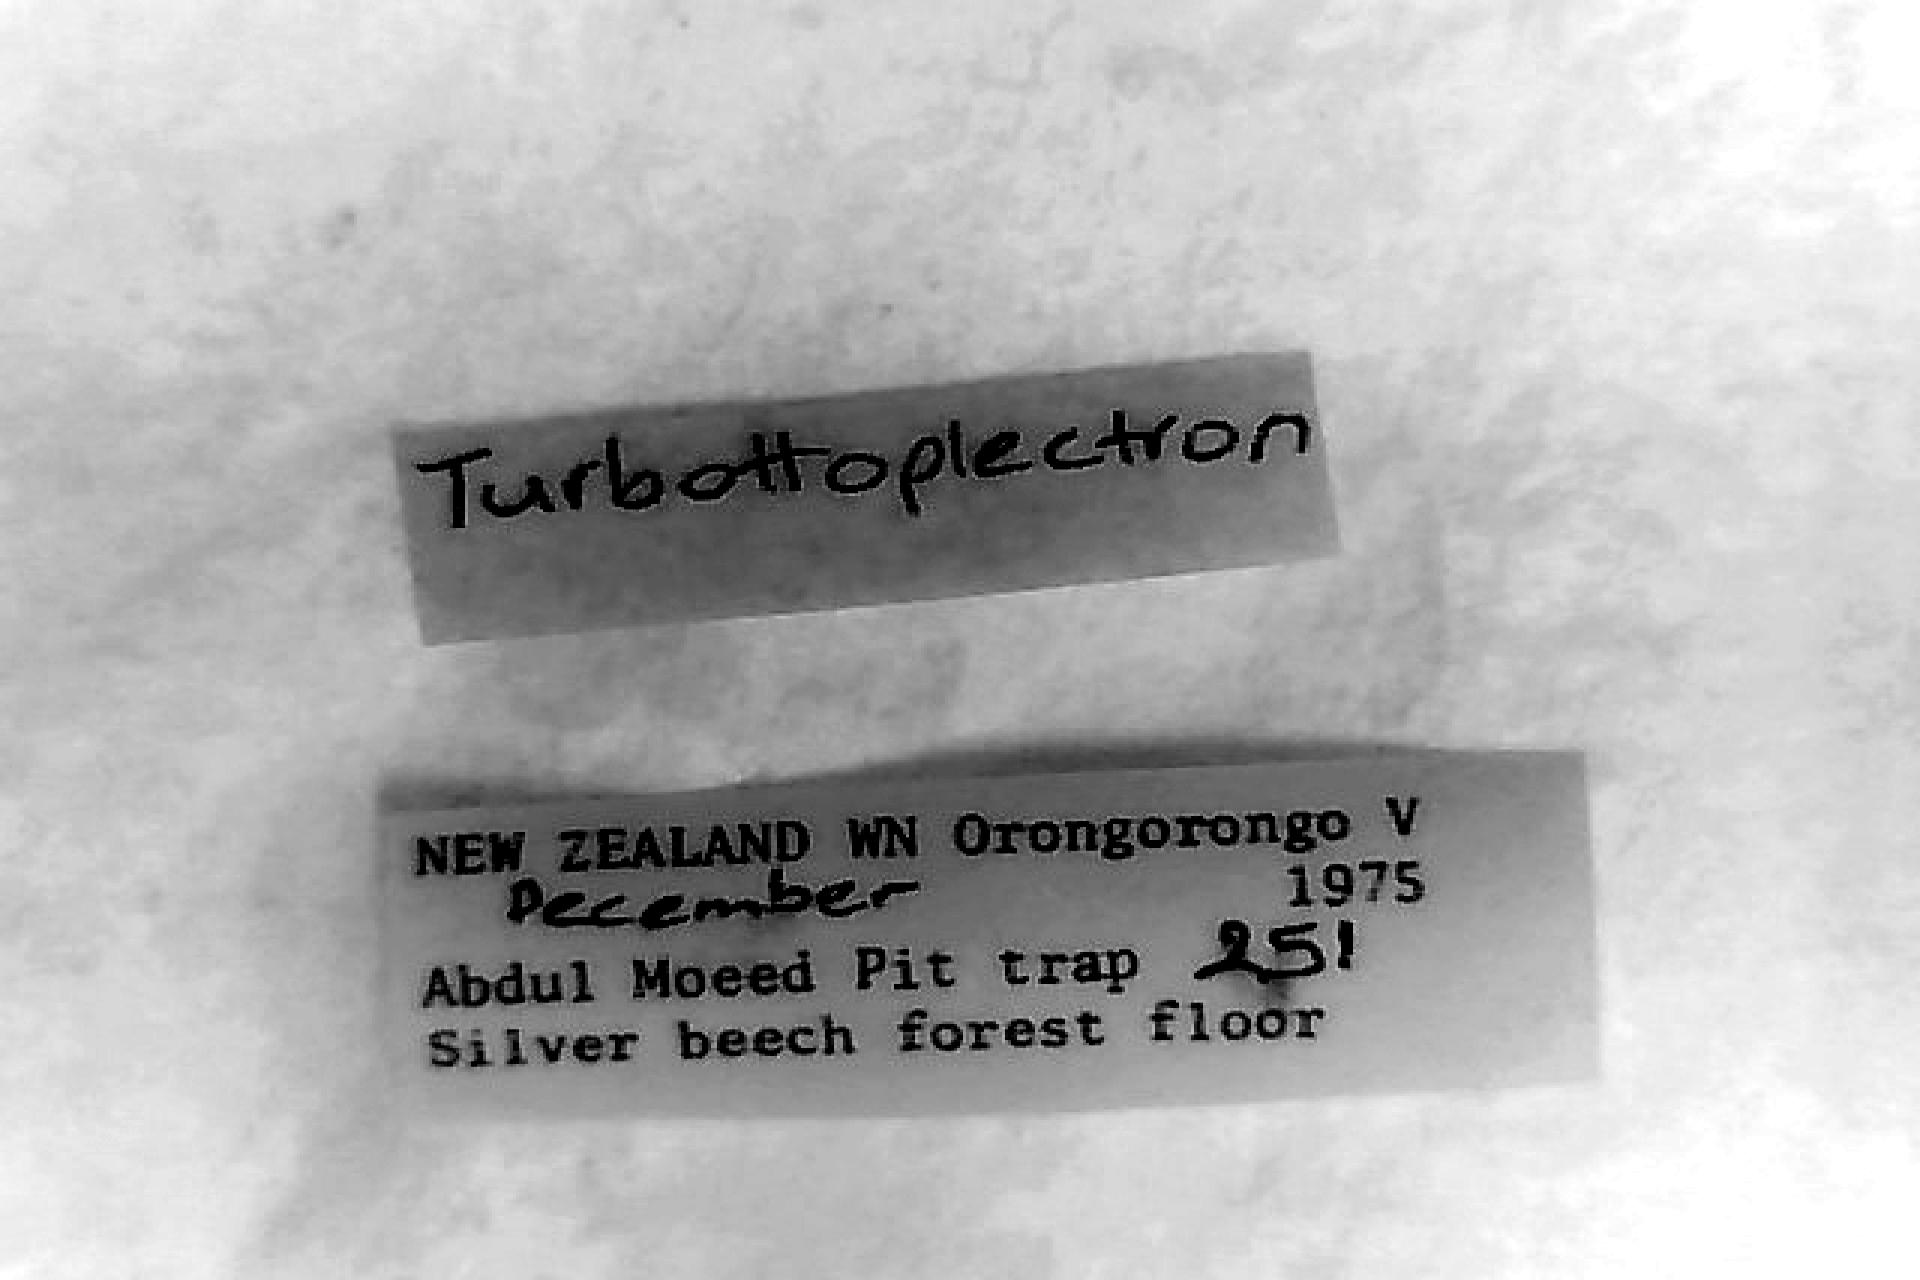hand_label: (398, 357, 1335, 642)
mixed_label: (386, 753, 1598, 1113)
